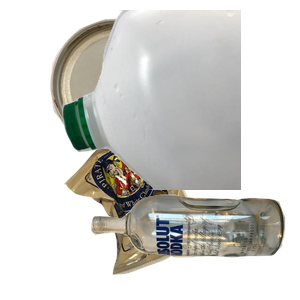glass: (88, 192, 300, 300)
metal: (47, 16, 214, 157)
plastic: (60, 10, 300, 190)
trash: (61, 127, 260, 300)
